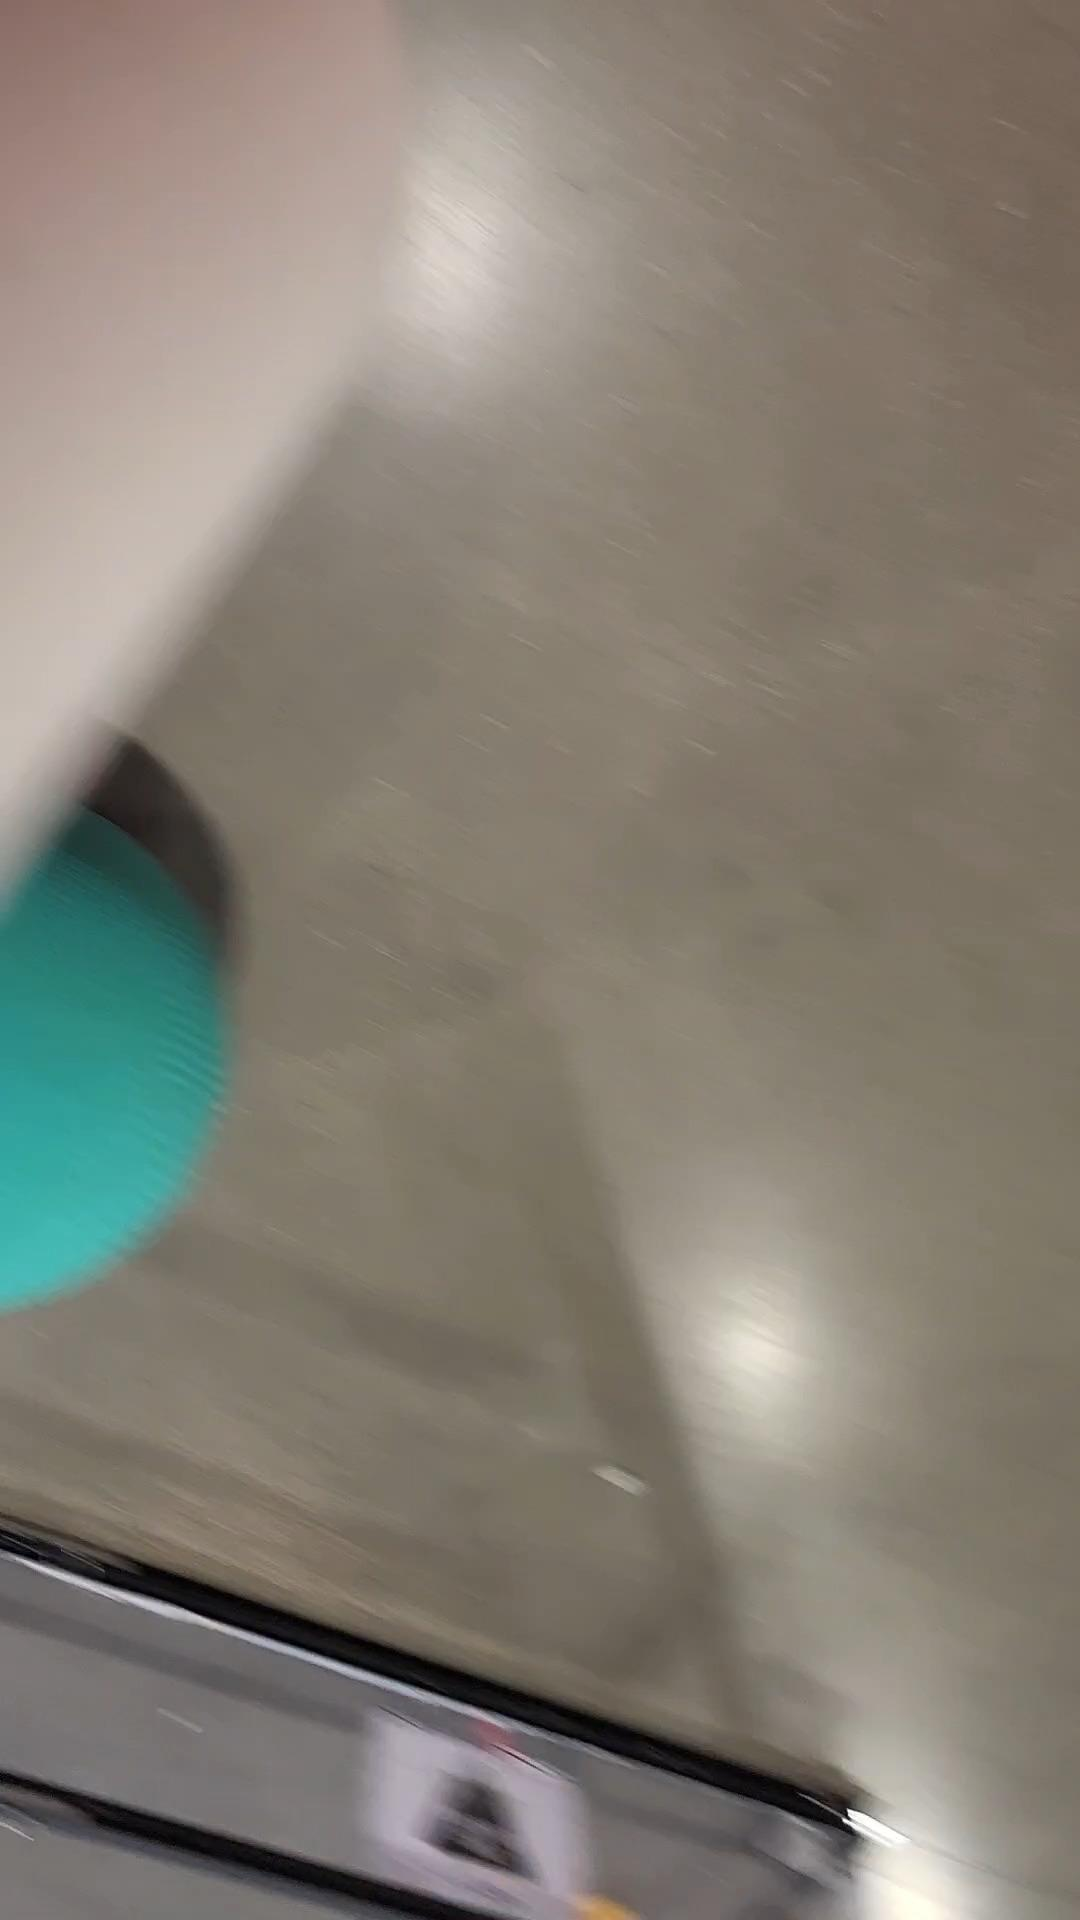algae: (0, 764, 247, 1340)
coral: (0, 0, 434, 898)
